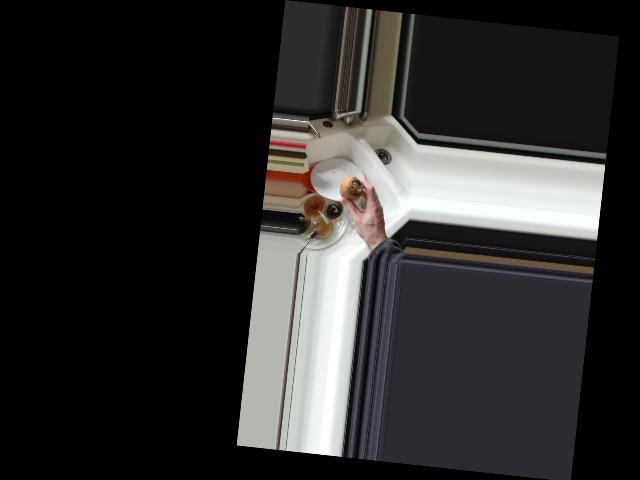sweet_potato: (337, 173, 365, 207)
